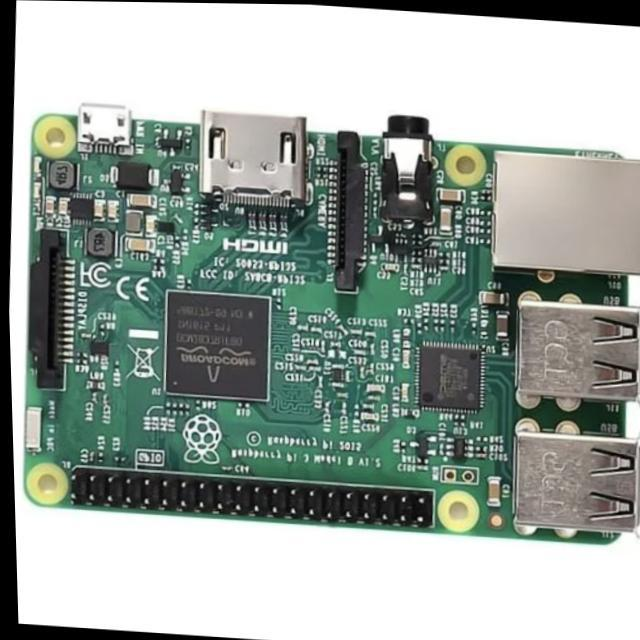Raspberry Pi 3 B-: (26, 105, 640, 537)
